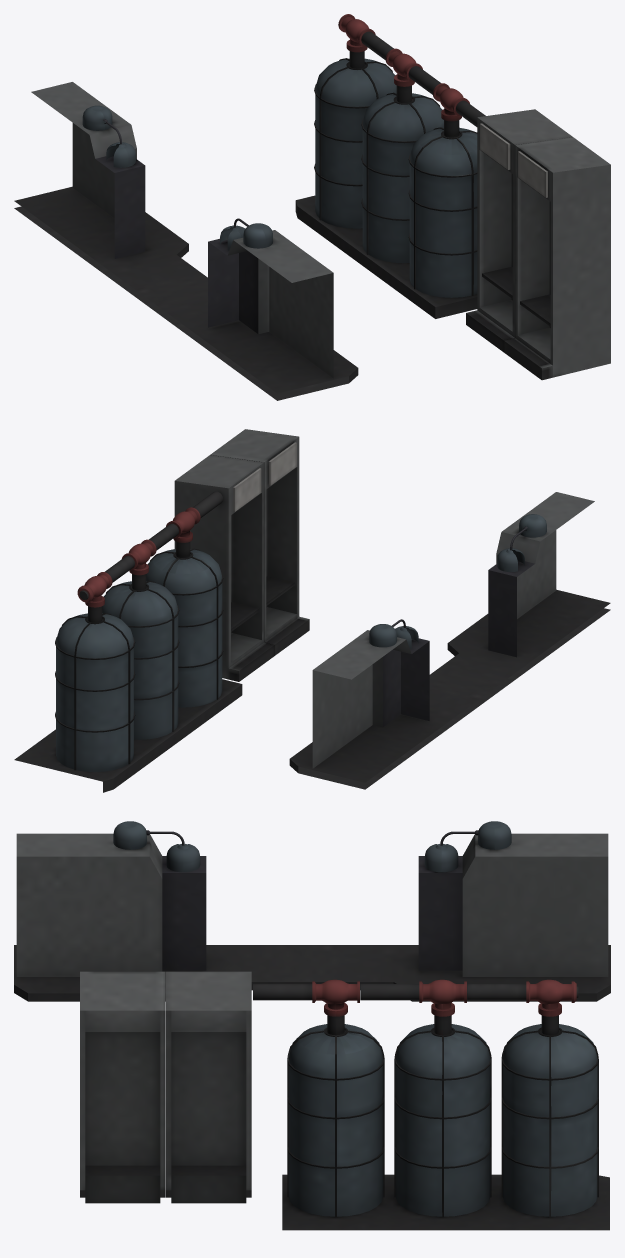
Rendered from oxygen_layout.fbx.
3 views of the same model, one above another, from view 1: azimuth 30°, elevation 25°; view 2: azimuth 150°, elevation 25°; view 3: azimuth 270°, elevation 25° (orthographic). The views are drawn at different scales.
Visible parts, largest first — view 1: Cylinder.066; view 2: Cylinder.066; view 3: Cylinder.066.
Part boxes in pixels (bbox=[...]): Cylinder.066: bbox=[14, 14, 610, 400]; Cylinder.066: bbox=[14, 429, 610, 792]; Cylinder.066: bbox=[14, 821, 610, 1230].
Size of the model in its own units: 4.33 by 2.25 by 5.24.
